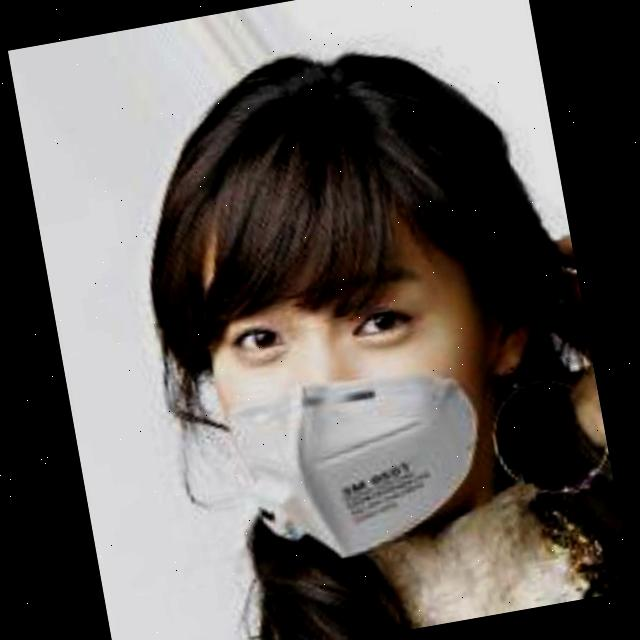suspicion: (154, 138, 537, 570)
